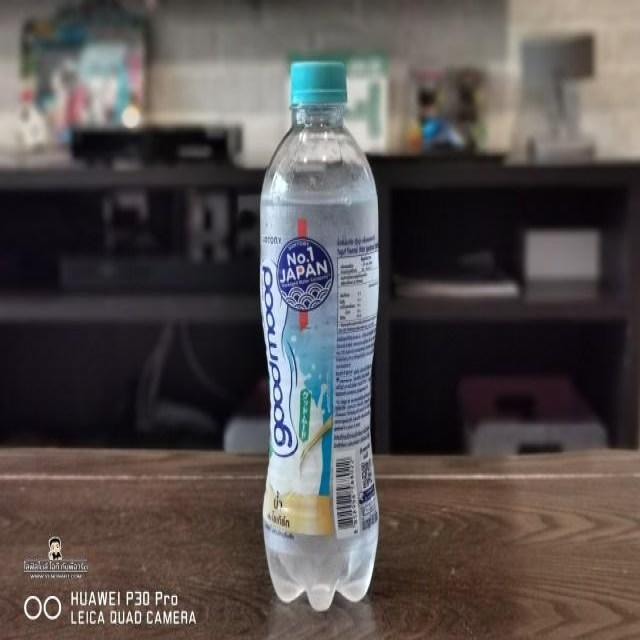bottle: (250, 52, 386, 624)
